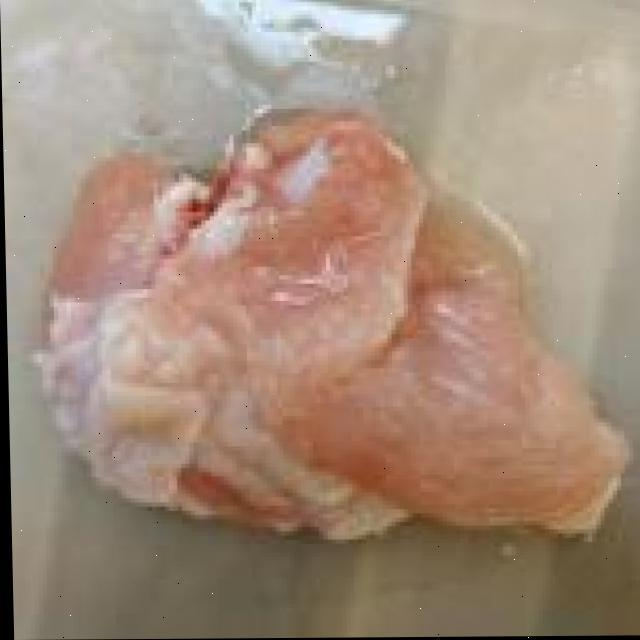breast: (32, 128, 623, 546)
